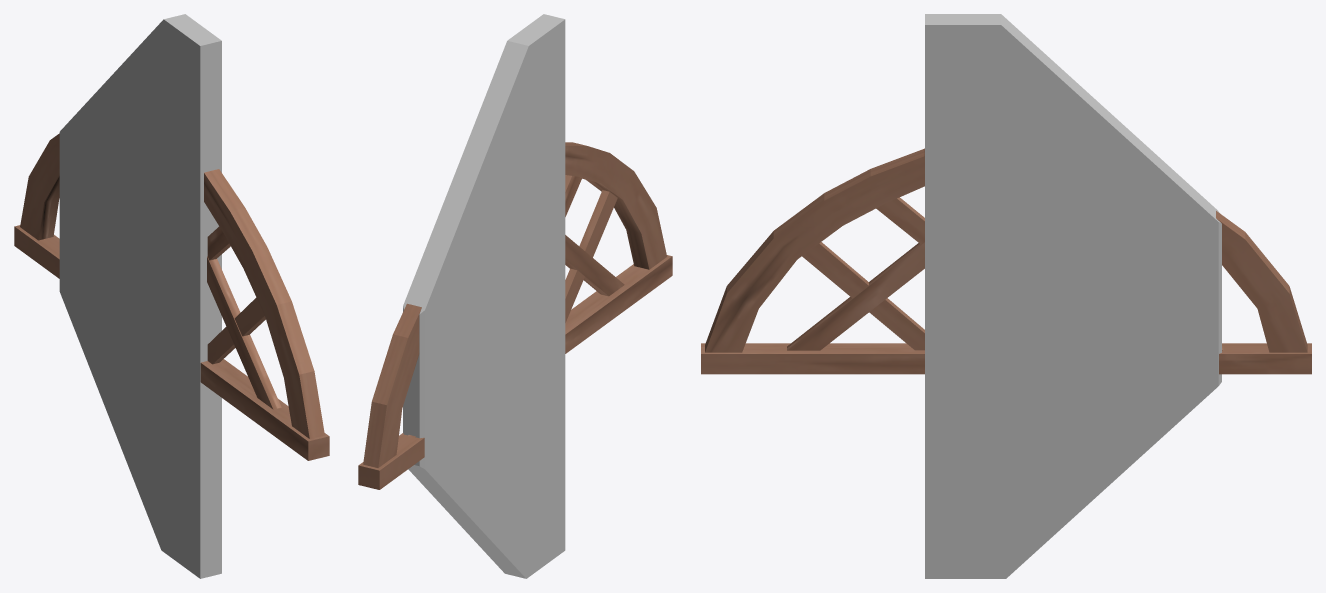
Rendered from SM_wooden_grid_02.fbx.
The picture shows the model from 3 angles, left to right: view 1: azimuth 30°, elevation 25°; view 2: azimuth 150°, elevation 25°; view 3: azimuth 270°, elevation 25°; orthographic projection. The views are drawn at different scales.
Parts seen in each view (by area): view 1: SM_wooden_grid_02_ConvexHulls, SM_wooden_grid_02; view 2: SM_wooden_grid_02_ConvexHulls, SM_wooden_grid_02; view 3: SM_wooden_grid_02_ConvexHulls, SM_wooden_grid_02.
Part boxes in pixels (x1,y1,x2,y2): SM_wooden_grid_02_ConvexHulls: (59,14,221,578); SM_wooden_grid_02: (14,133,329,460); SM_wooden_grid_02_ConvexHulls: (403,14,565,578); SM_wooden_grid_02: (358,142,672,489); SM_wooden_grid_02_ConvexHulls: (925,14,1221,578); SM_wooden_grid_02: (701,148,1311,374).
Size of the model in its own units: 11.74 by 275 by 276.
